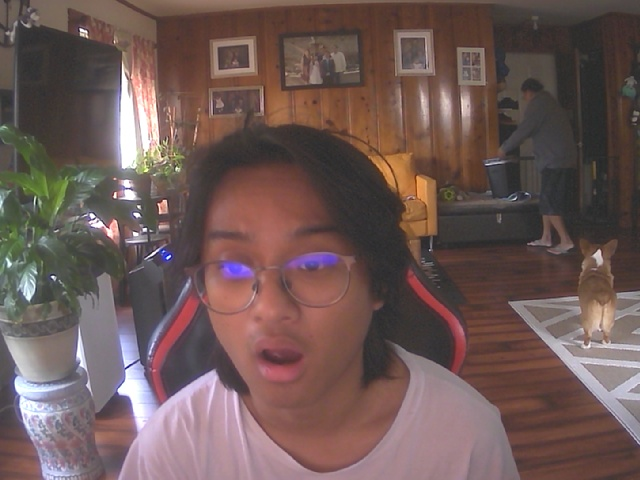fear: (174, 136, 396, 408)
